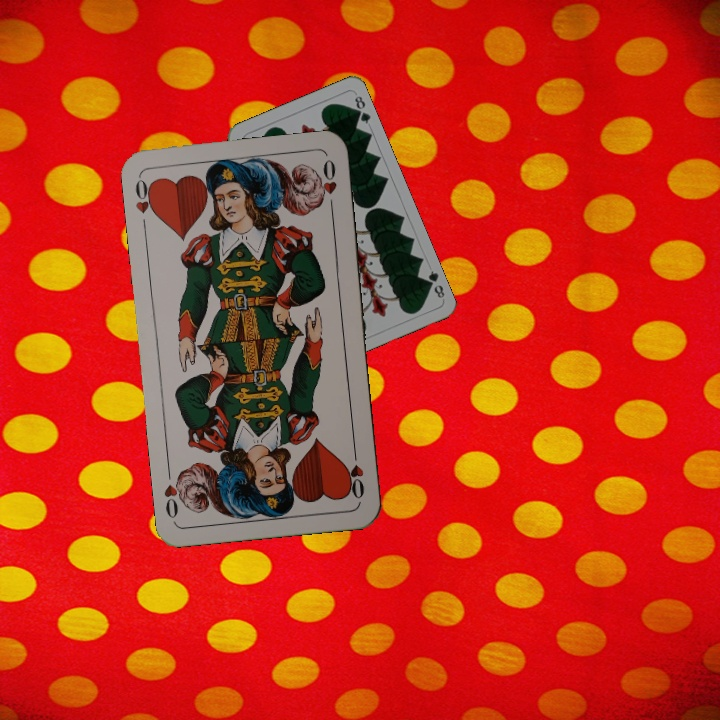G8: (421, 266, 447, 301)
HO: (131, 174, 159, 233), (344, 444, 367, 502)
